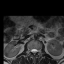CCS_normal: (33, 46, 35, 57)
LFS_normal: (37, 47, 39, 54)
LLS_normal: (35, 47, 37, 54)
RFS_normal: (29, 47, 31, 54)
RLS_normal: (31, 47, 33, 54)
